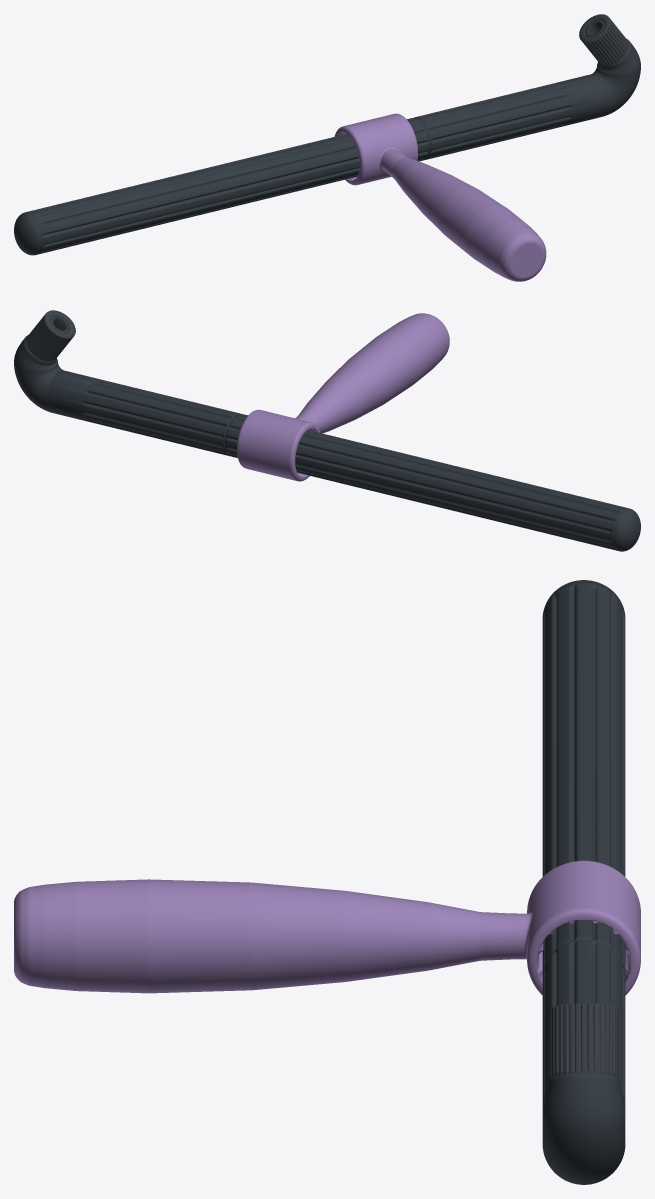
The model's file is file-handi-35-backward-lavender.glb.
3 views of the same model, one above another, from view 1: azimuth 30°, elevation 25°; view 2: azimuth 150°, elevation 25°; view 3: azimuth 270°, elevation 25° (orthographic). The views are drawn at different scales.
Visible parts, largest first — view 1: 03 | Long fluted handle, 11 | Rubberized transverse handle, 05 | Short fluted front grip, 07 | Rounded elbow - 125 deg axis angle, 09 | Straight knurled tip and blind socket, 01 | Rounded rear cap; view 2: 03 | Long fluted handle, 11 | Rubberized transverse handle, 05 | Short fluted front grip, 07 | Rounded elbow - 125 deg axis angle, 09 | Straight knurled tip and blind socket, 01 | Rounded rear cap; view 3: 11 | Rubberized transverse handle, 03 | Long fluted handle, 07 | Rounded elbow - 125 deg axis angle, 05 | Short fluted front grip, 09 | Straight knurled tip and blind socket.
Part boxes in pixels (bbox=[...]): 03 | Long fluted handle: bbox=[26, 118, 429, 254]; 11 | Rubberized transverse handle: bbox=[334, 113, 546, 281]; 05 | Short fluted front grip: bbox=[414, 74, 606, 160]; 07 | Rounded elbow - 125 deg axis angle: bbox=[590, 43, 640, 116]; 09 | Straight knurled tip and blind socket: bbox=[579, 14, 628, 65]; 01 | Rounded rear cap: bbox=[14, 212, 41, 255]; 03 | Long fluted handle: bbox=[225, 414, 627, 550]; 11 | Rubberized transverse handle: bbox=[237, 313, 449, 481]; 05 | Short fluted front grip: bbox=[48, 370, 240, 456]; 07 | Rounded elbow - 125 deg axis angle: bbox=[14, 338, 63, 413]; 09 | Straight knurled tip and blind socket: bbox=[26, 310, 75, 361]; 01 | Rounded rear cap: bbox=[613, 508, 640, 551]; 11 | Rubberized transverse handle: bbox=[14, 860, 640, 995]; 03 | Long fluted handle: bbox=[542, 582, 625, 972]; 07 | Rounded elbow - 125 deg axis angle: bbox=[542, 1078, 625, 1184]; 05 | Short fluted front grip: bbox=[542, 939, 625, 1110]; 09 | Straight knurled tip and blind socket: bbox=[549, 1003, 618, 1077].
Bounding box in the file's own units: 0.13 × 0.021 × 0.0605.
